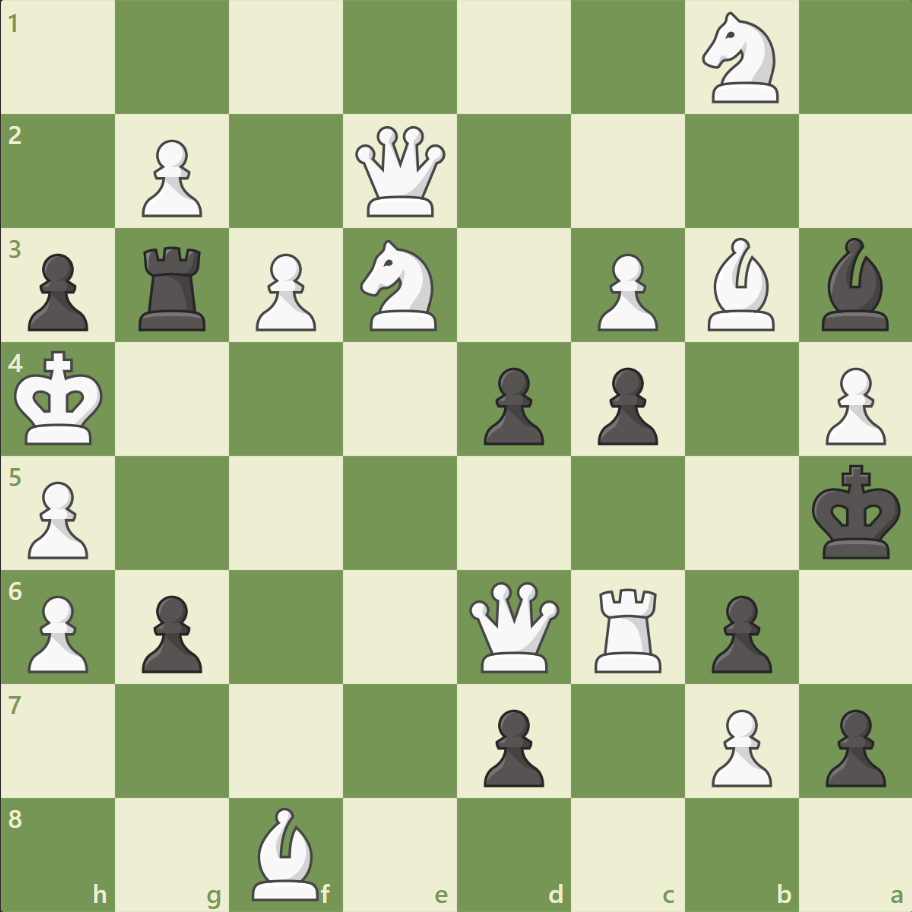B: (244, 801, 328, 904), (698, 233, 782, 336)
K: (11, 344, 111, 452)
N: (351, 234, 449, 337), (692, 7, 789, 110)
P: (701, 700, 776, 791), (20, 586, 95, 677), (20, 473, 95, 564), (247, 246, 322, 337), (133, 132, 208, 223), (815, 359, 889, 450), (588, 246, 662, 337)
Q: (464, 576, 563, 676), (351, 122, 450, 222)
R: (587, 579, 670, 676)
b: (812, 233, 896, 336)
k: (806, 458, 906, 566)
p: (474, 700, 549, 791), (701, 586, 776, 677), (133, 586, 208, 677), (474, 359, 549, 450), (20, 246, 95, 337), (815, 700, 889, 791), (588, 359, 662, 450)
r: (133, 239, 215, 336)
